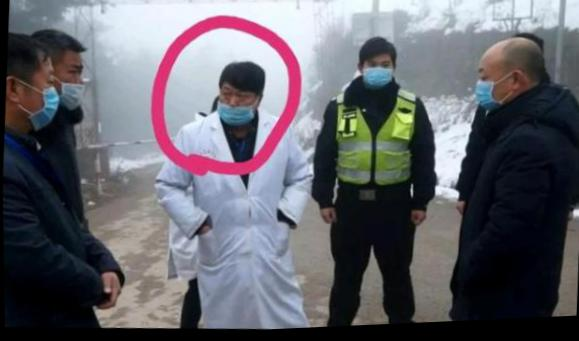OK: (25, 71, 62, 132), (474, 67, 509, 117), (361, 58, 394, 94)
WRONG: (55, 56, 88, 111), (217, 86, 257, 128)
